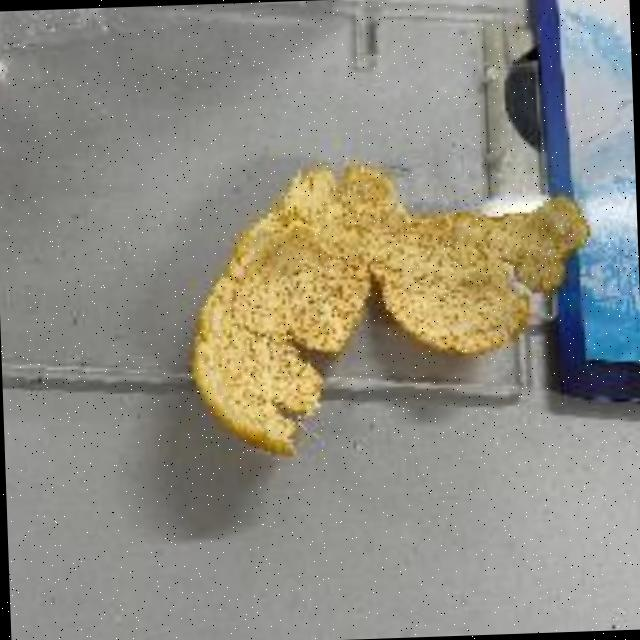orange-peel: (179, 147, 597, 461)
